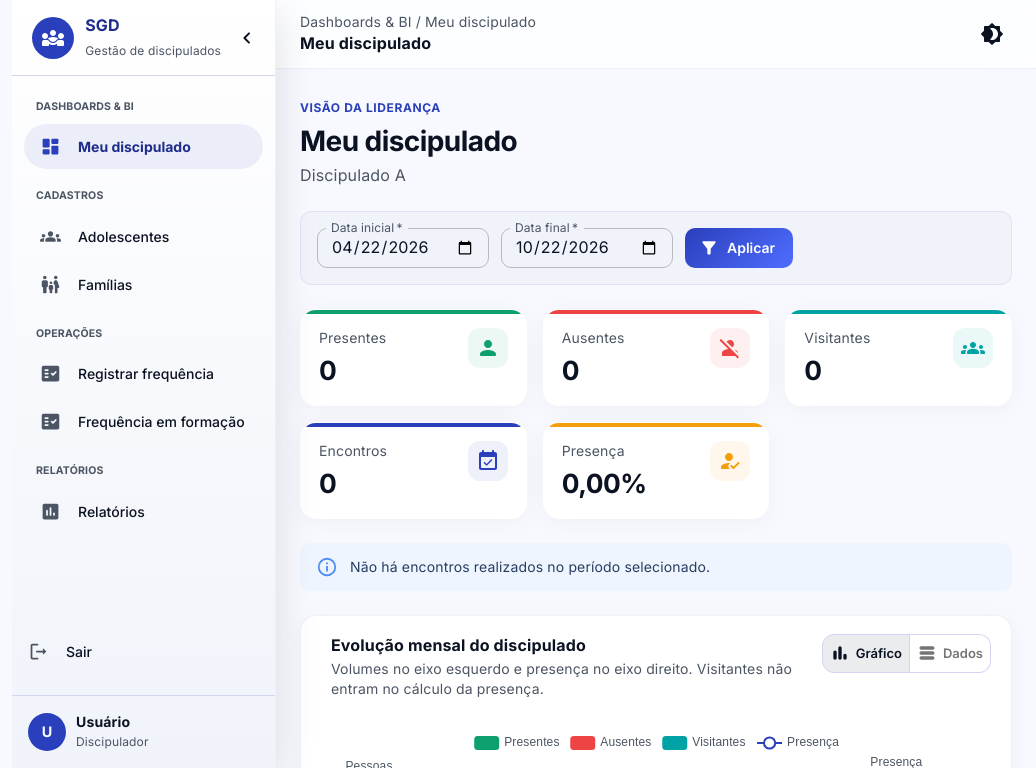
navegação autenticada › na frequência em formação, o discipulador vê só o próprio grupo
Click the tab "Frequência em formação" at (144, 422), box [24,399,263,444]
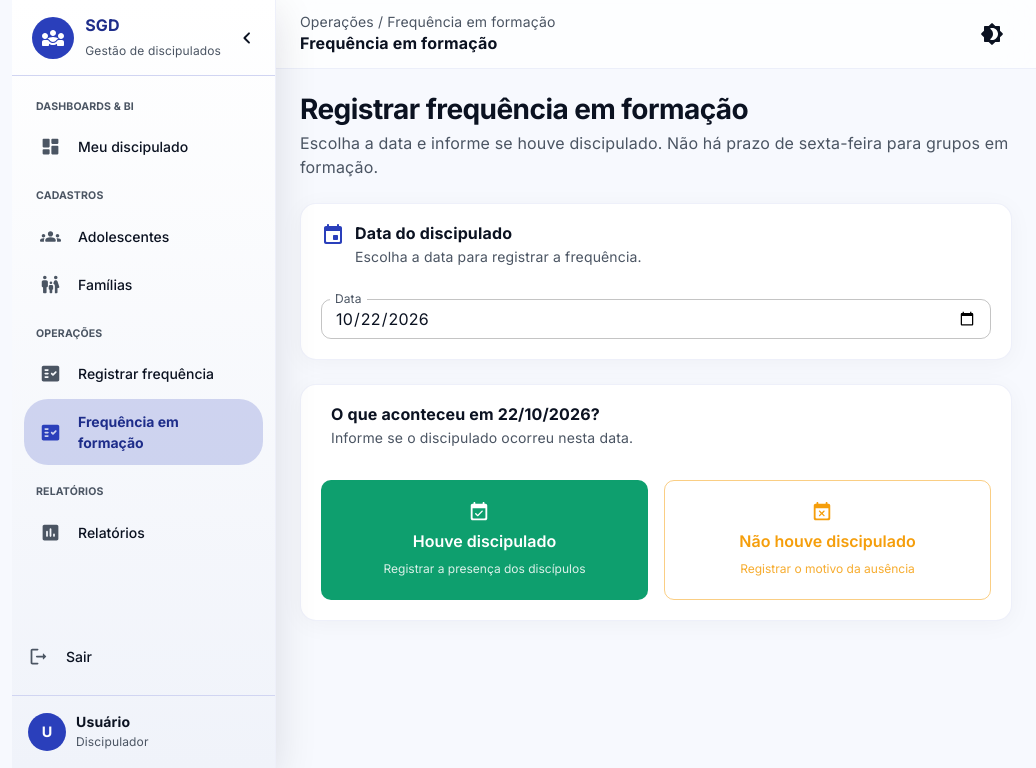
Check: the button "Houve discipulado Registrar a presença dos discípulos" is shown, box [321,480,648,600]
